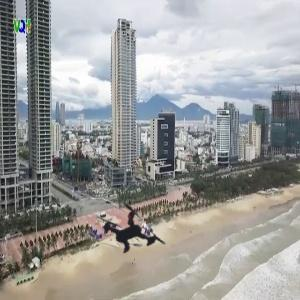drone: (80, 179, 185, 284)
